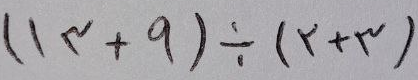character: (220, 21, 259, 66), (147, 16, 176, 66), (393, 16, 415, 75), (62, 17, 93, 57), (4, 12, 25, 67), (354, 23, 391, 53), (276, 20, 297, 70), (189, 13, 205, 75), (29, 17, 50, 60), (297, 23, 317, 61), (105, 32, 133, 59), (328, 31, 356, 53)
